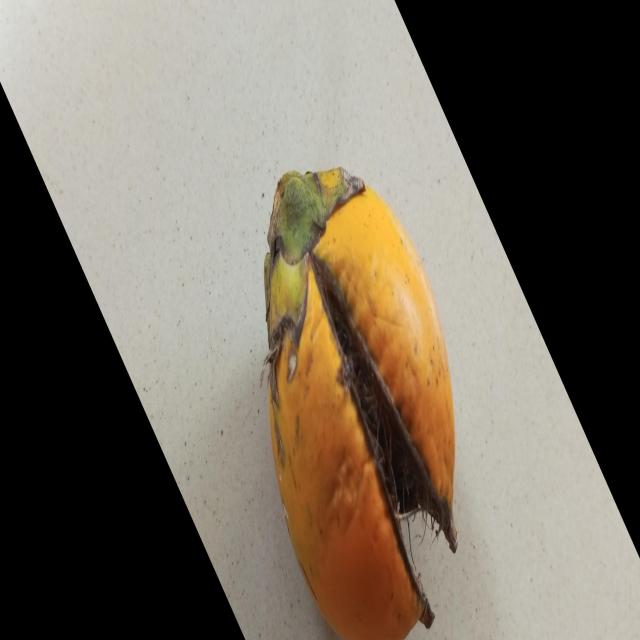damaged: (264, 168, 458, 640)
